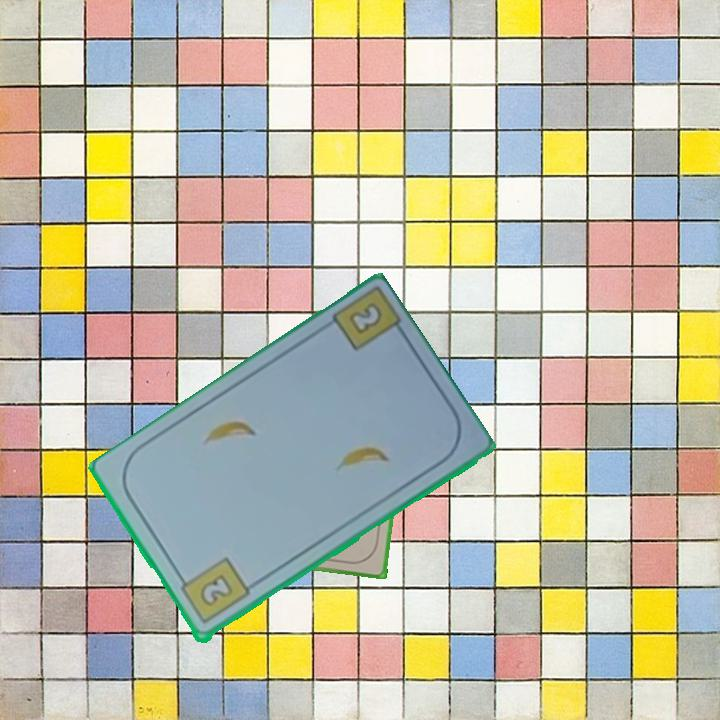2b: (174, 554, 253, 628), (344, 299, 386, 338)
